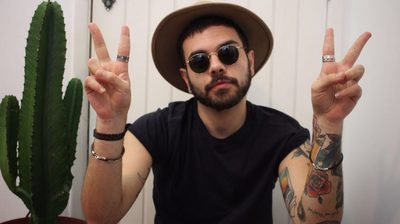mindinho: (328, 79, 381, 108), (79, 74, 108, 102)
